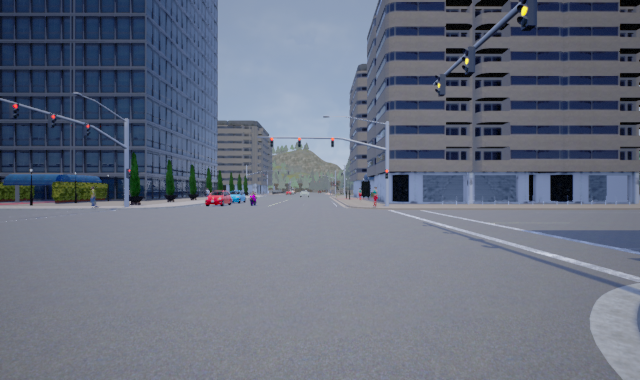motobike: (248, 190, 257, 206)
pedestrian: (87, 185, 100, 208), (369, 185, 379, 206)
vehicle: (204, 190, 230, 207), (226, 189, 246, 204)
